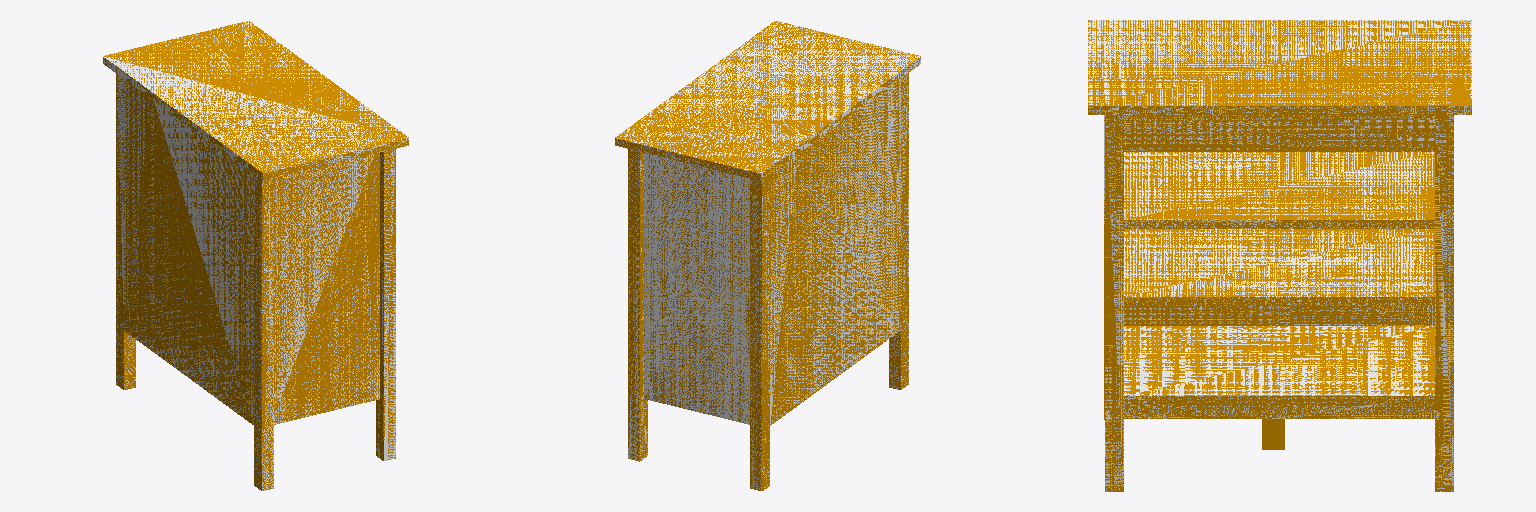
The robot description file, URDF, robot "my_object":
<?xml version="1.0" ?>
<robot name="my_object" static="true">
  <link name="base_link">
  <inertial>
    <mass value="5.0" />
    <origin xyz="0 0 0.0" />
    <inertia ixx="1.0" ixy="0.0" ixz="0.0" iyy="1.0" iyz="0.0" izz="1.0"/>
  </inertial>
  <visual>
   <origin xyz="0 0 0.0" rpy="0 0 0" />
   <geometry>
     <mesh filename="package://cob_gazebo_objects/Media/models/shelf_white.dae"/>
   </geometry>
  </visual>
  <collision>
   <origin xyz="0 0 0.0" rpy="0 0 0" />
   <geometry>
     <mesh filename="package://cob_gazebo_objects/Media/models/shelf_white.dae" />
   </geometry>
  </collision>
  </link>

<gazebo>
	<static>true</static>
</gazebo>
</robot>

--- Render facts (derived) ---
The picture shows the robot from 3 angles, left to right: view 1: azimuth 30°, elevation 25°; view 2: azimuth 150°, elevation 25°; view 3: azimuth 270°, elevation 25°; orthographic projection.
Robot: my_object — 1 links, 0 joints (none); root link base_link; default pose: all joints at 0.
Visible links, largest first — view 1: base_link; view 2: base_link; view 3: base_link.
Link boxes in pixels (<box>): base_link: <box>103,21,408,490</box>; base_link: <box>615,21,920,490</box>; base_link: <box>1088,20,1471,491</box>.
Size in the robot's own frame: 0.4101 by 0.7795 by 0.8696 metres.
1 mesh visuals loaded from 1 distinct referenced files (1 Collada DAE).